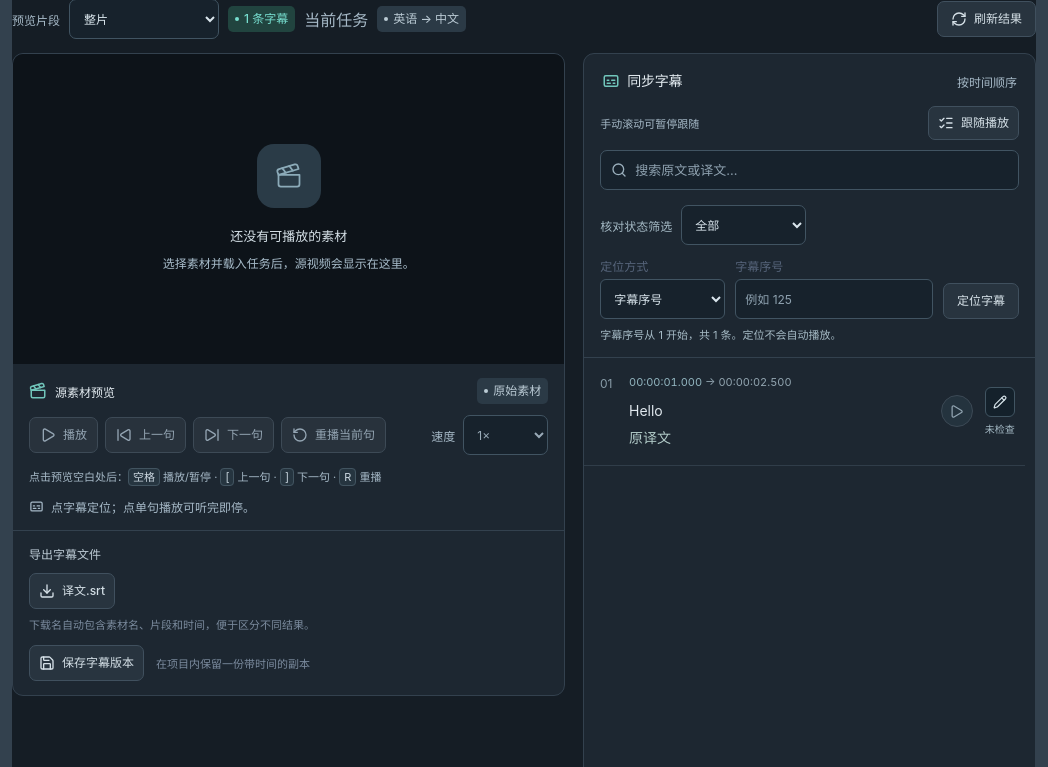
it: 字幕导出与核对保存的并发回执 › download finishes after a cue save without leaving controls locked (success)
Click the button with aria-label "下载 译文.srt SRT" at (72, 591), box [29, 573, 115, 609]
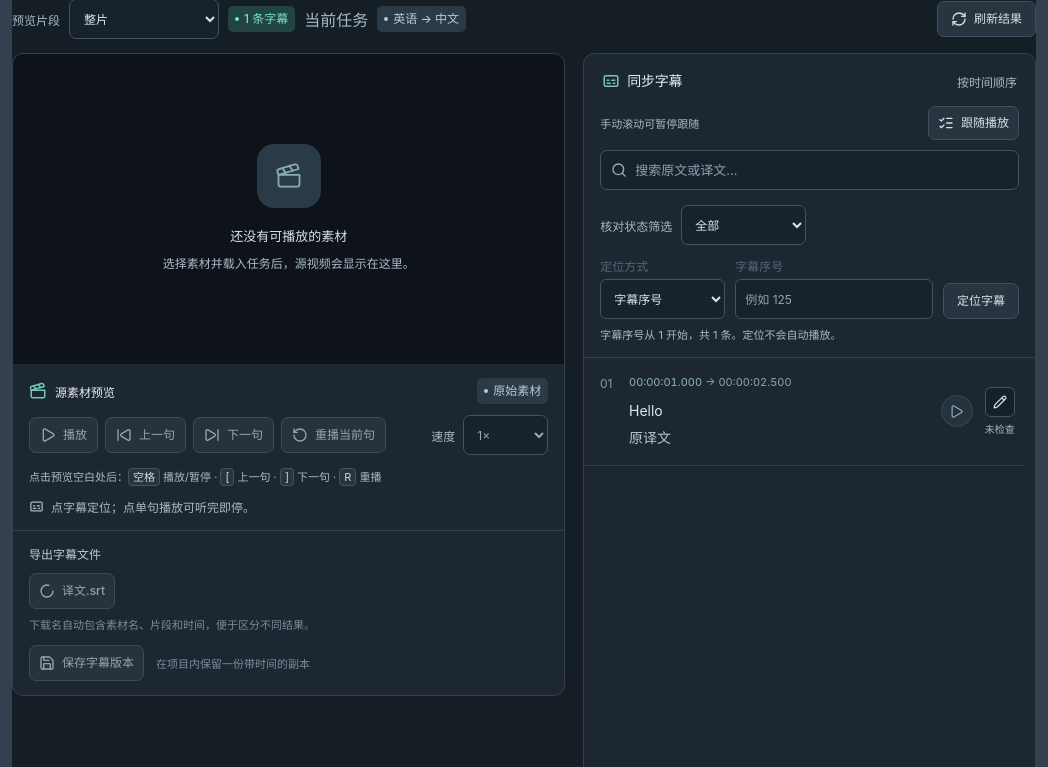
Click the button named "编辑第 1 句" at (1000, 402), box [985, 386, 1015, 416]
(page scrolled)
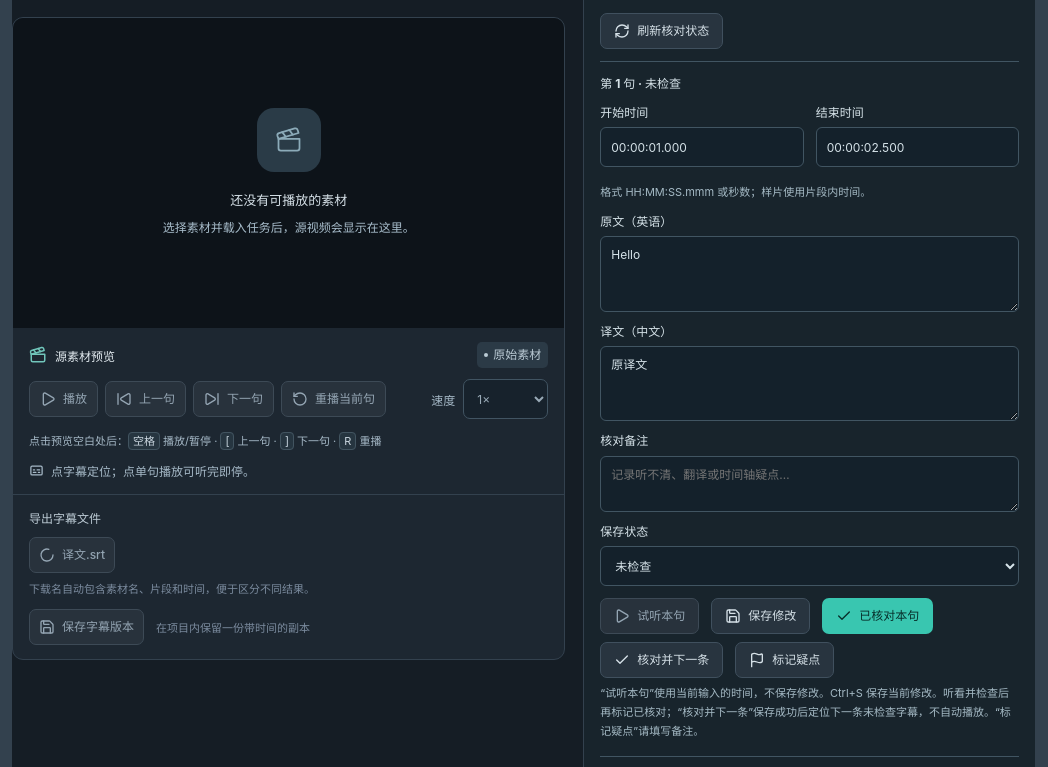
Replace the text in the text box labelled "译文（中文）" with "新译文" at (810, 384), box [600, 346, 1019, 422]
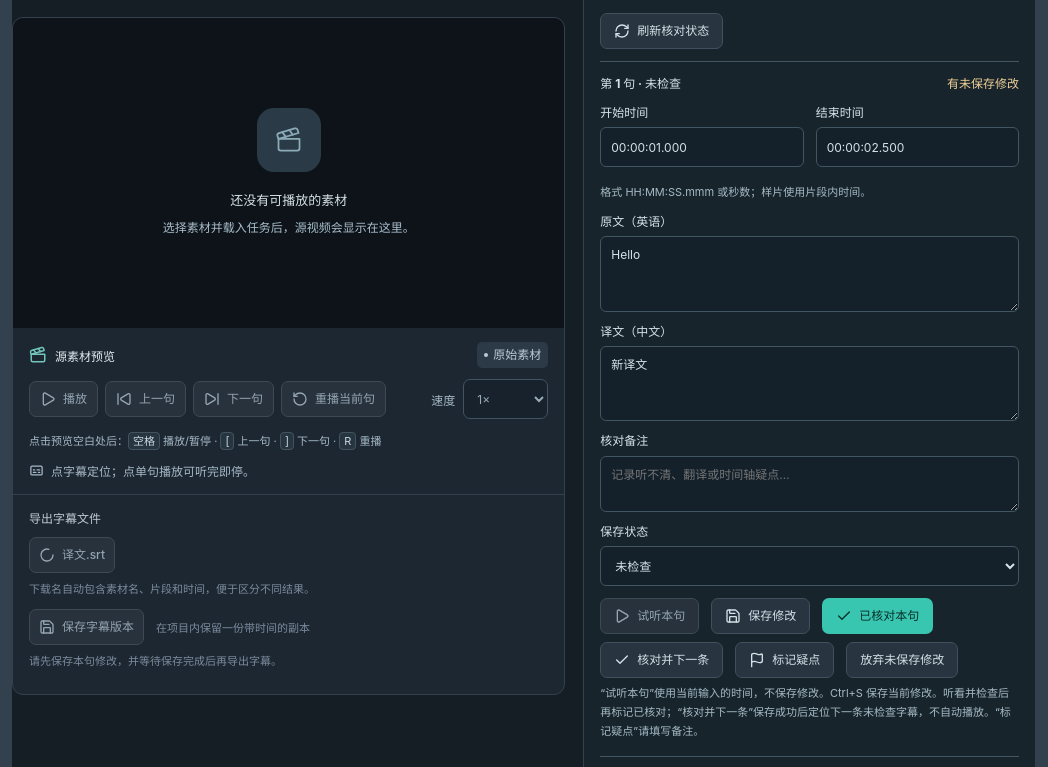
Click the button "保存修改" at (761, 616), box [711, 598, 810, 634]
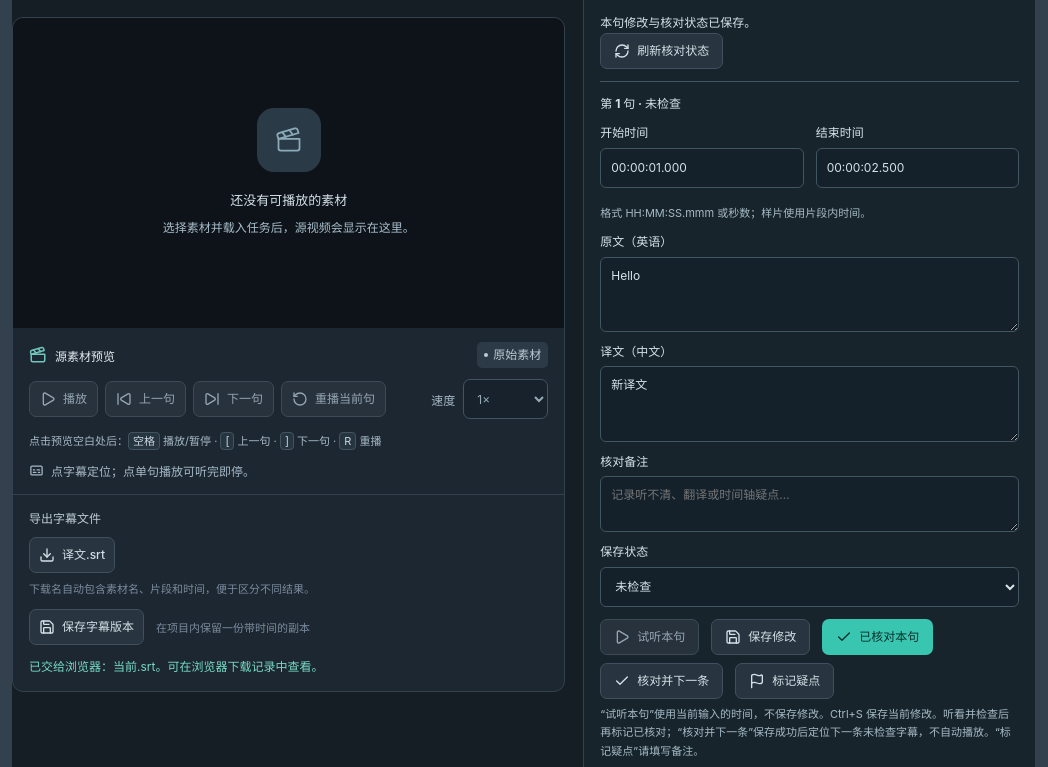
Expected: the text "本句修改与核对状态已保存。" is shown, [600, 15, 756, 30]
Expected: the button with aria-label "下载 译文.srt SRT" is enabled, [29, 537, 115, 573]
Expected: the button "保存字幕版本" is enabled, [29, 609, 144, 645]
